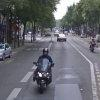Motorcycle: (28, 49, 62, 97)
